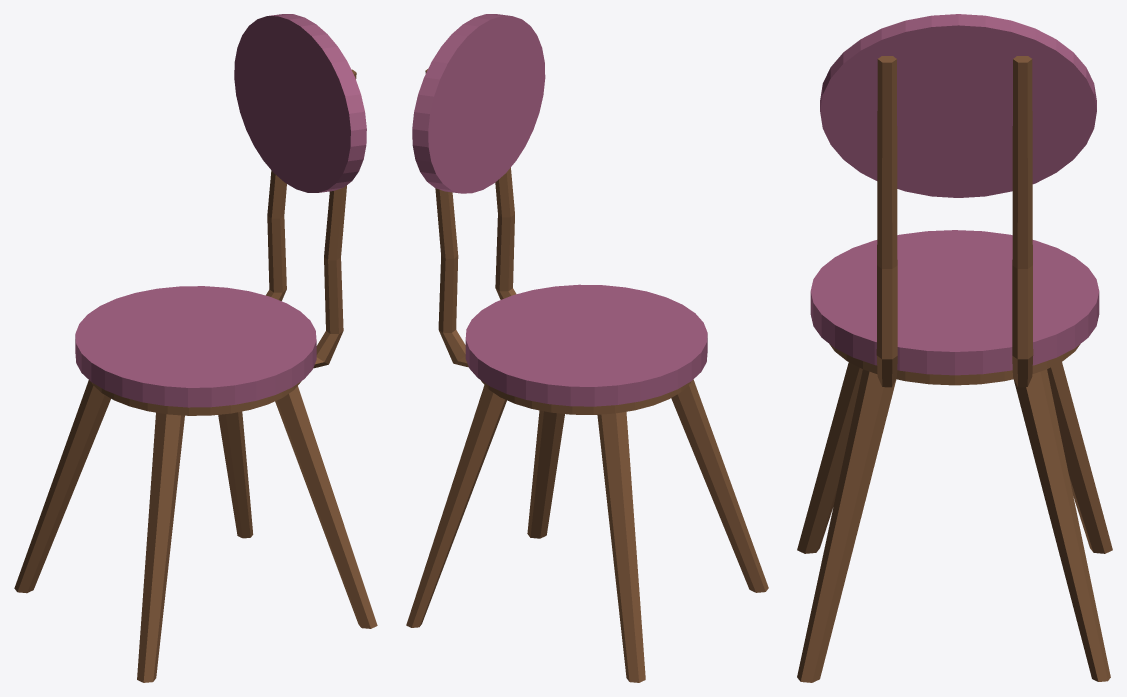
Rendered from Cocina Silla.fbx.
3 renders of one model, left to right at view 1: azimuth 30°, elevation 25°; view 2: azimuth 150°, elevation 25°; view 3: azimuth 270°, elevation 25°, orthographic. The views are drawn at different scales.
Parts seen in each view (by area): view 1: Silla cocina; view 2: Silla cocina; view 3: Silla cocina.
Part boxes in pixels (left/top/right/bottom): Silla cocina: left=14, top=14, right=377, bottom=682; Silla cocina: left=406, top=14, right=768, bottom=682; Silla cocina: left=797, top=14, right=1112, bottom=682.
Bounding box in the file's own units: 46.19 × 98.07 × 42.46.
